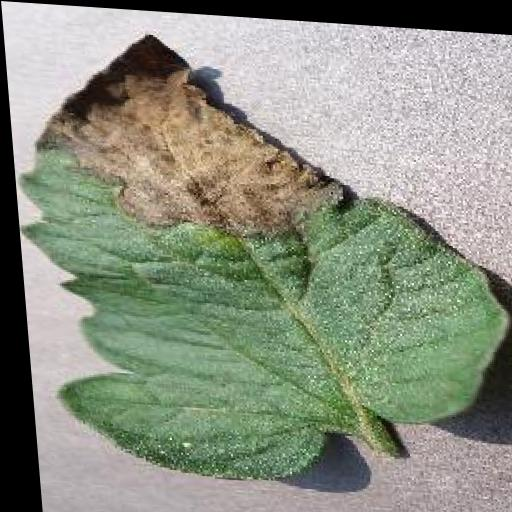Late Blight: (1, 20, 512, 489)
